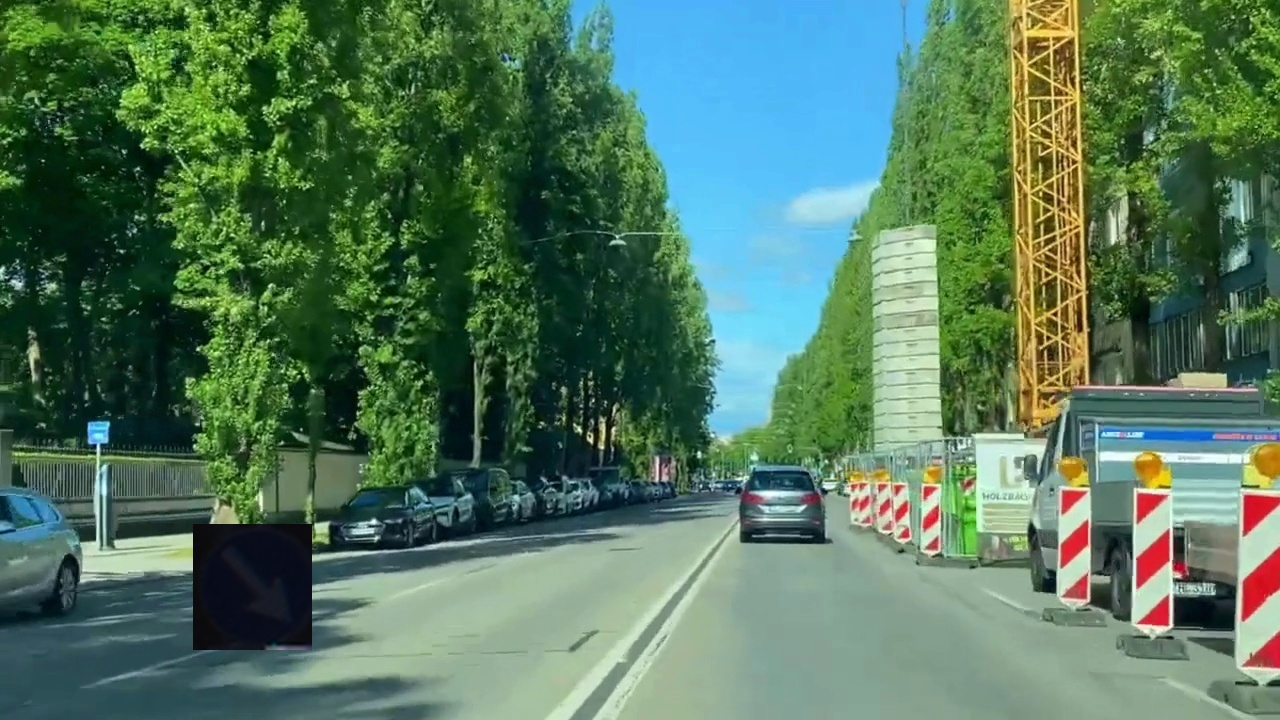Keep right: (193, 524, 312, 650)
